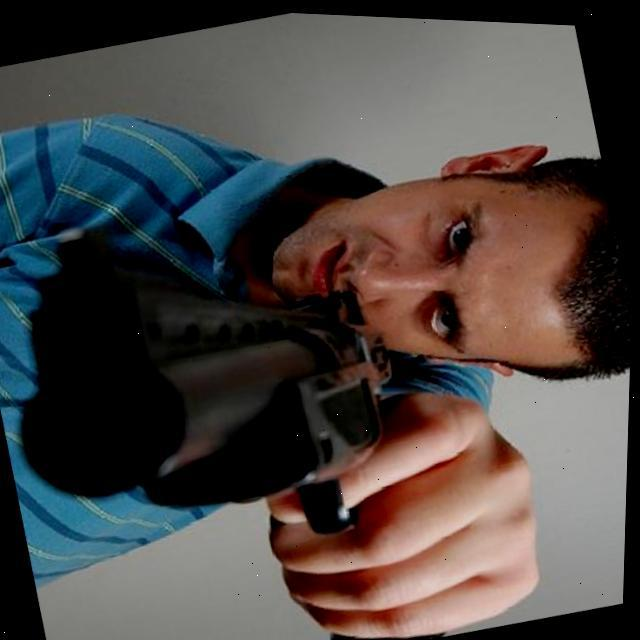gun: (0, 168, 474, 640)
